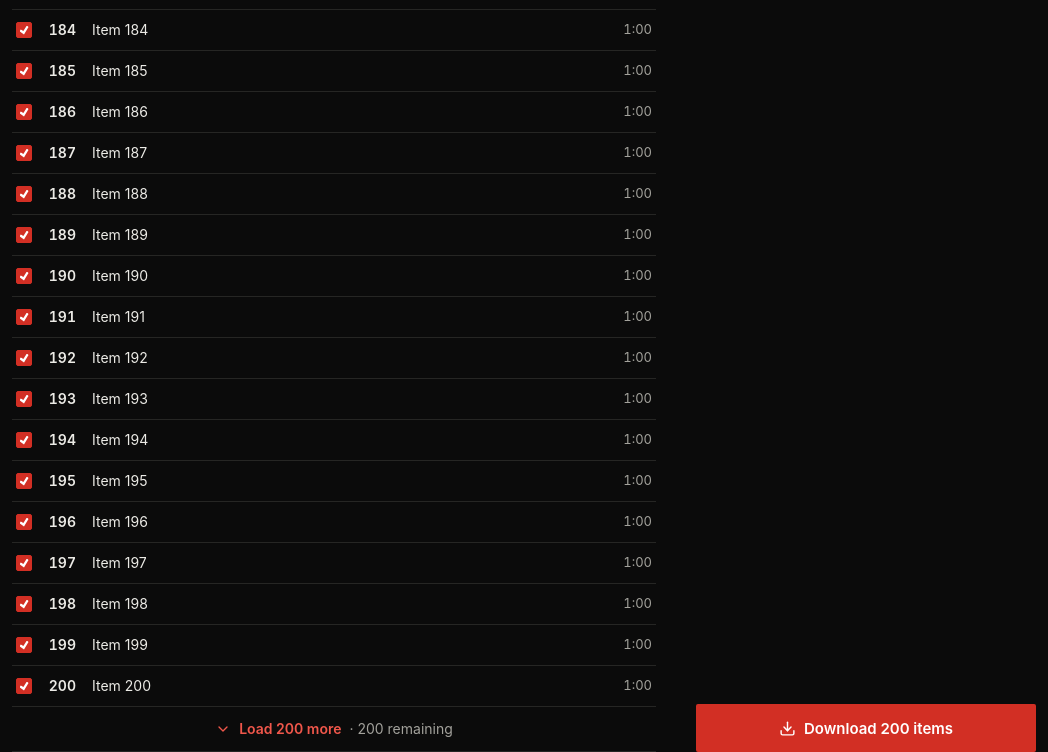
Test case: MediaCard › stops offering load-more once a short page returns
(page scrolled)
Click the button "Load 200 more · 200 remaining": (334, 730) [12,707,656,751]
(page scrolled)
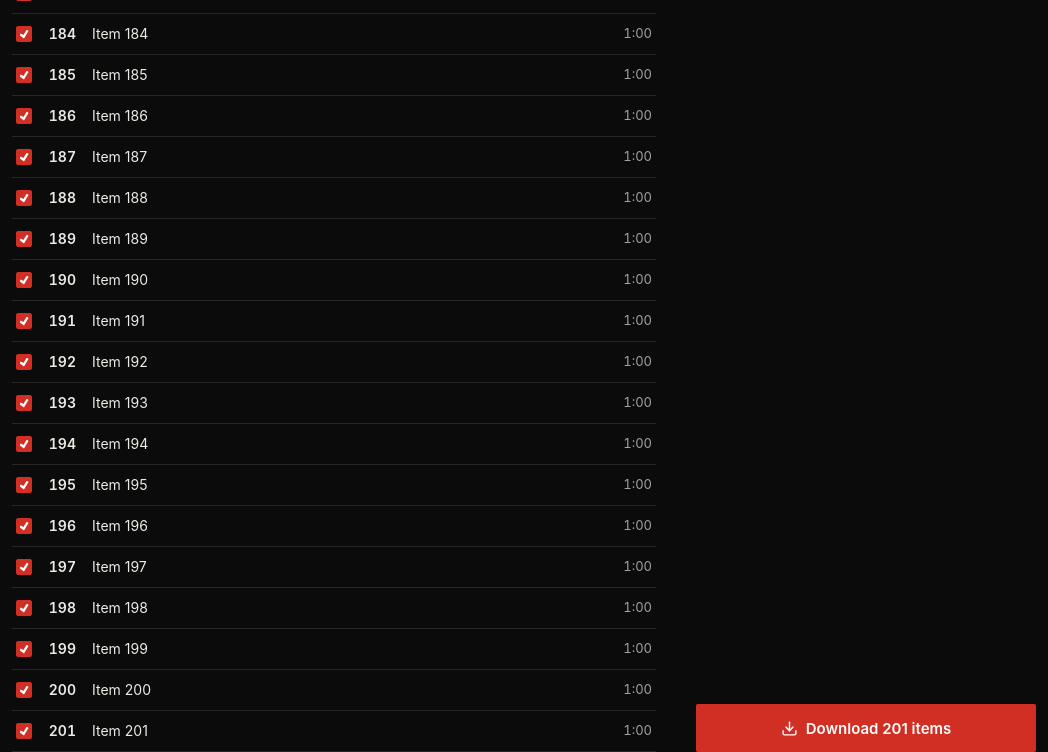
Expected: the button "Load 200 more · 200 remaining" is gone
